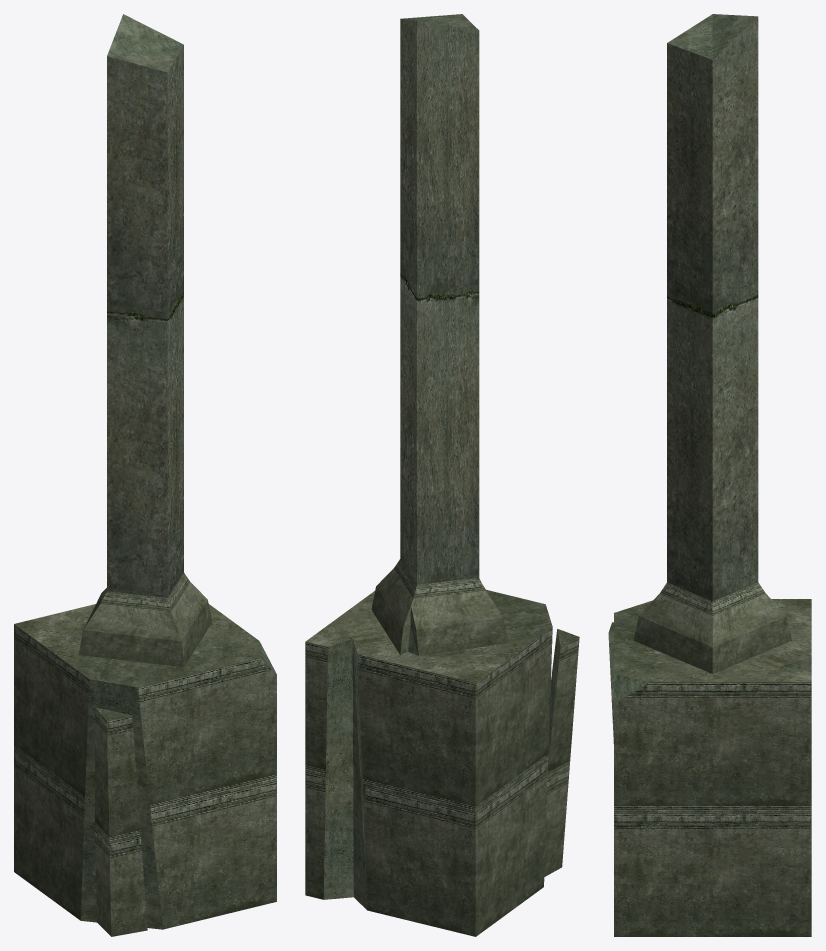
The model's file is thm_dant_jedi_temple_pillar_med_l2.fbx.
3 views of the same model, side by side, from view 1: azimuth 30°, elevation 25°; view 2: azimuth 150°, elevation 25°; view 3: azimuth 270°, elevation 25° (orthographic). The views are drawn at different scales.
Parts seen in each view (by area): view 1: mesh_node; view 2: mesh_node; view 3: mesh_node.
Part boxes in pixels (bbox=[...]): mesh_node: bbox=[14, 14, 276, 936]; mesh_node: bbox=[305, 14, 579, 936]; mesh_node: bbox=[608, 14, 811, 936].
Size of the model in its own units: 2.05 by 9.83 by 2.06.
